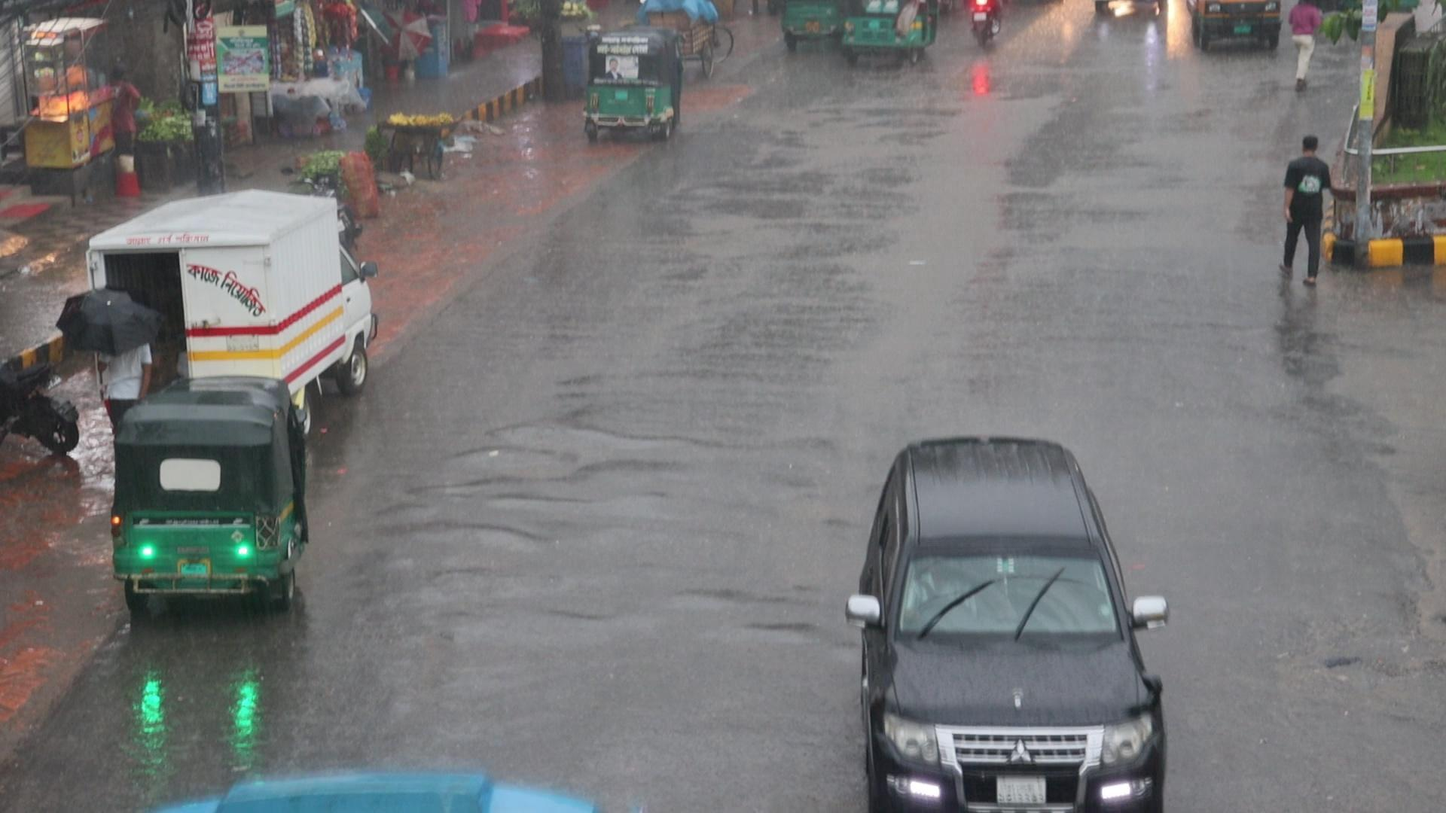Car: (836, 432, 1176, 813)
